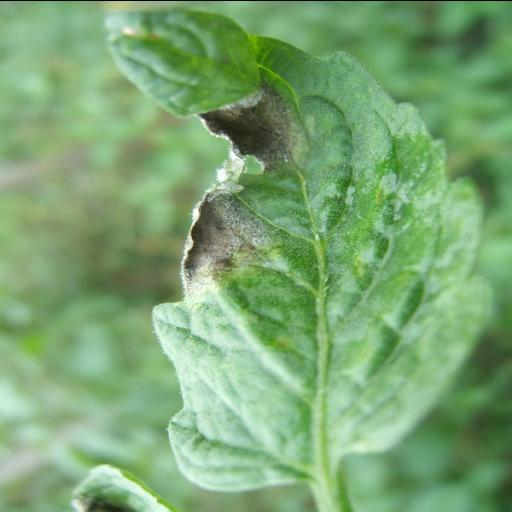disease_tomato: (134, 17, 498, 492)
